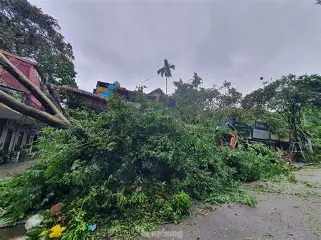ROAD_OBSTACLE: (0, 45, 300, 240)
